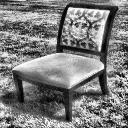chair_success: (6, 2, 120, 123)
